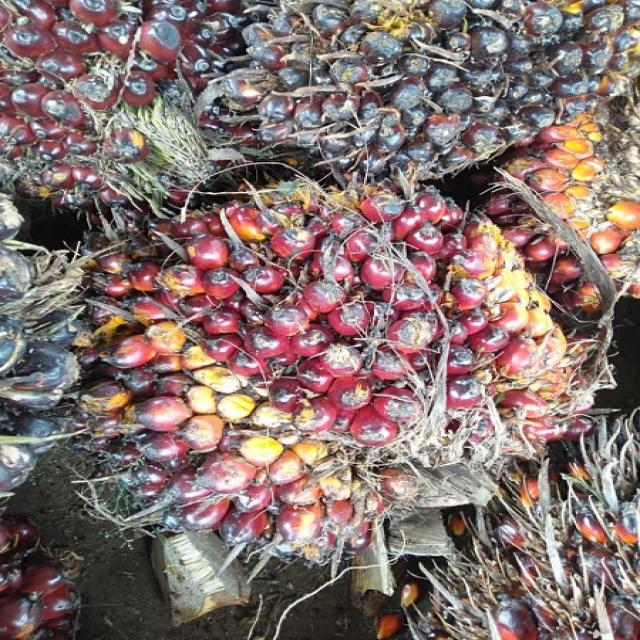fraksi 1: (64, 142, 568, 580)
